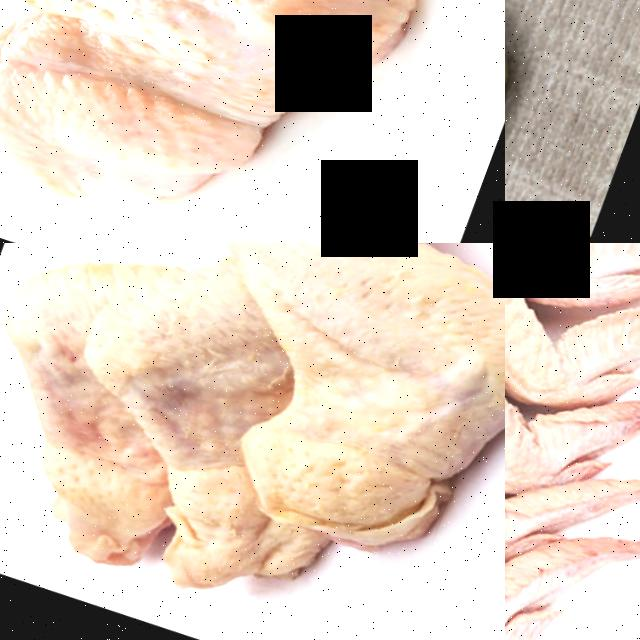chayote: (505, 0, 591, 243)
chicken wing: (146, 243, 505, 606), (0, 0, 505, 243), (505, 322, 640, 623), (505, 258, 640, 553), (505, 407, 640, 640), (505, 243, 640, 374)
